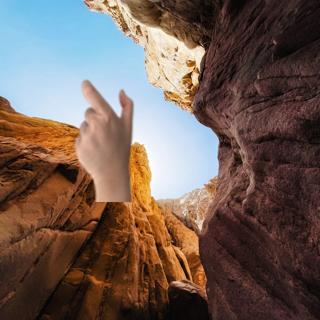HATE: (65, 69, 142, 197)
